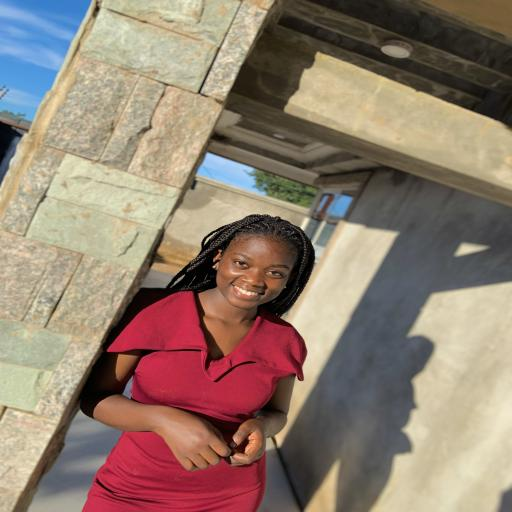LAURENE: (202, 208, 316, 322)
